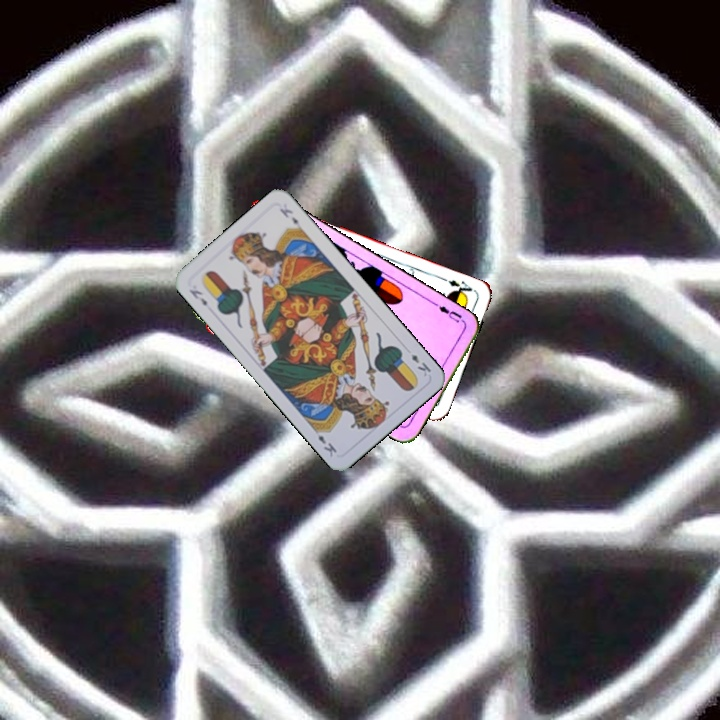EA: (444, 276, 475, 299)
EK: (407, 350, 434, 379), (185, 285, 210, 309)
EU: (431, 299, 467, 326)
